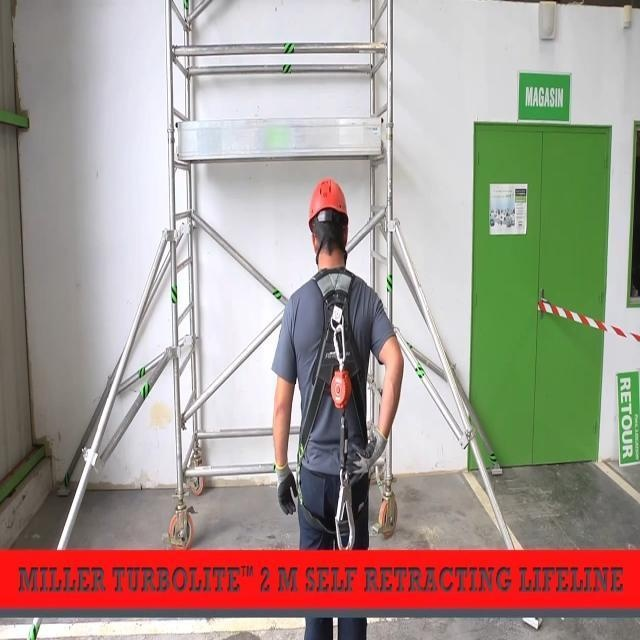Arnes_seguridad: (299, 257, 372, 549)
